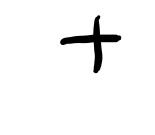plus: (59, 15, 117, 74)
